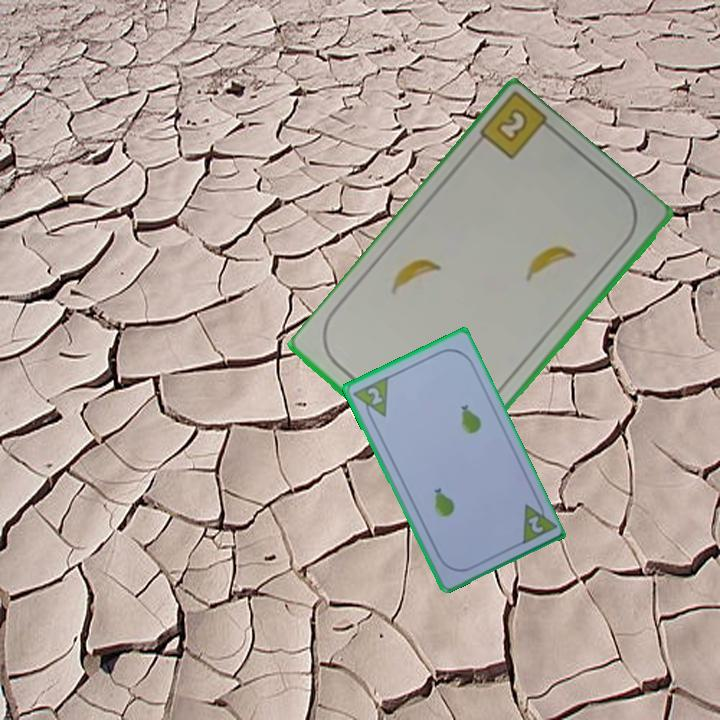2b: (492, 105, 531, 146)
2p: (349, 373, 391, 425), (524, 512, 546, 536)
